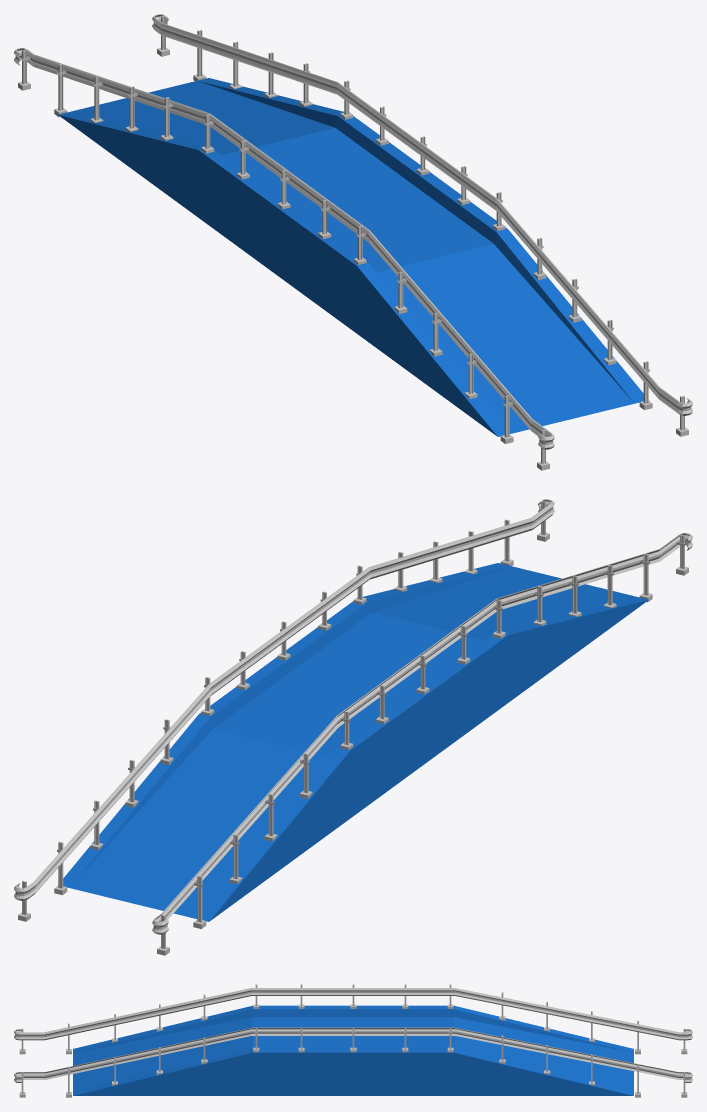
Rendered from SM_markup_11.fbx.
3 renders of one model, top to bottom at view 1: azimuth 30°, elevation 25°; view 2: azimuth 150°, elevation 25°; view 3: azimuth 270°, elevation 25°, orthographic. The views are drawn at different scales.
Visible parts, largest first — view 1: Cube_31; view 2: Cube_31; view 3: Cube_31.
Part boxes in pixels (bbox=[...]): Cube_31: bbox=[14, 14, 692, 470]; Cube_31: bbox=[14, 499, 692, 955]; Cube_31: bbox=[14, 984, 692, 1097].
Bounding box in the file's own units: 320 × 216 × 1948.
